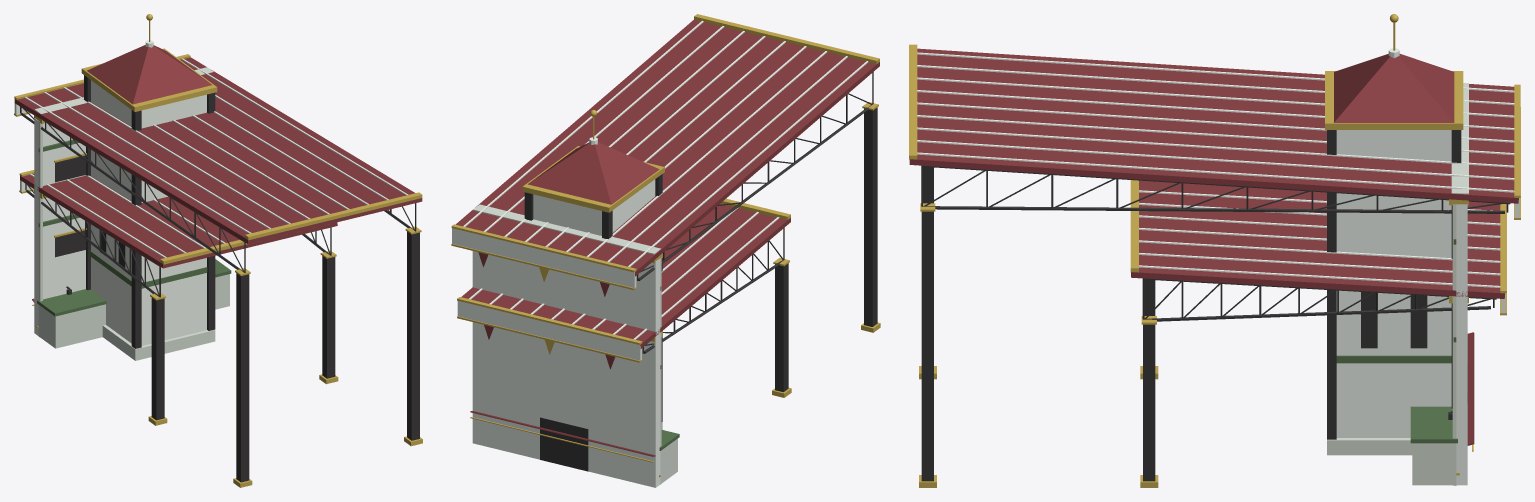
Rendered from downs-stand.glb.
The picture shows the model from 3 angles, left to right: view 1: azimuth 30°, elevation 25°; view 2: azimuth 150°, elevation 25°; view 3: azimuth 270°, elevation 25°; orthographic projection. The views are drawn at different scales.
Parts seen in each view (by area): view 1: dn_roof_bay_barn, dn_tower_mint, dn_roof_bay_black, dn_roof_bay_s_barn, dn_roof_bay_s_black, dn_roof_bay_mint, dn_back_mint, dn_tower_barn, dn_tower_black, dn_suite_mint2, dn_roof_bay_gold, dn_tower_mint2 (+9 smaller); view 2: dn_roof_bay_barn, dn_back_mint, dn_back_s_mint, dn_roof_bay_s_barn, dn_roof_bay_mint, dn_roof_bay_black, dn_tower_barn, dn_roof_bay_s_mint, dn_roof_bay_gold, dn_roof_bay_s_black, dn_tower_mint, dn_roof_bay_s_gold (+6 smaller); view 3: dn_roof_bay_barn, dn_roof_bay_s_barn, dn_tower_mint, dn_roof_bay_mint, dn_roof_bay_black, dn_tower_barn, dn_roof_bay_s_black, dn_roof_bay_s_mint, dn_tower_black, dn_back_mint, dn_roof_bay_gold, dn_back_mint2 (+8 smaller).
Part boxes in pixels (x1,y1,x2,y2): dn_roof_bay_barn: (14,57,422,243); dn_tower_mint: (91,40,206,345); dn_roof_bay_black: (19,106,419,482); dn_roof_bay_s_barn: (20,174,337,268); dn_roof_bay_s_black: (25,183,335,420); dn_roof_bay_mint: (14,58,408,233); dn_back_mint: (34,118,85,335); dn_tower_barn: (87,45,211,104); dn_tower_black: (84,75,215,348); dn_suite_mint2: (38,274,229,348); dn_roof_bay_gold: (14,54,422,487); dn_tower_mint2: (102,325,215,360); dn_roof_bay_barn: (456,20,879,296); dn_back_mint: (472,251,660,487); dn_back_s_mint: (472,322,660,487); dn_roof_bay_s_barn: (461,203,790,369); dn_roof_bay_mint: (452,20,868,288); dn_roof_bay_black: (637,72,877,326); dn_tower_barn: (528,142,659,204); dn_roof_bay_s_mint: (457,207,779,360); dn_roof_bay_gold: (451,14,880,332); dn_roof_bay_s_black: (642,228,788,392); dn_tower_mint: (533,137,655,235); dn_roof_bay_s_gold: (457,198,791,397); dn_roof_bay_barn: (909,48,1518,203); dn_roof_bay_s_barn: (1131,180,1504,298); dn_tower_mint: (1336,48,1451,437); dn_roof_bay_mint: (917,52,1519,217); dn_roof_bay_black: (921,165,1510,481); dn_tower_barn: (1334,54,1454,122); dn_roof_bay_s_black: (1142,278,1496,481); dn_roof_bay_s_mint: (1139,190,1505,313); dn_tower_black: (1327,130,1461,439); dn_back_mint: (1456,204,1467,485); dn_roof_bay_gold: (909,44,1520,487); dn_back_mint2: (1451,83,1468,485).
Size of the model in its own units: 19.9 by 33.16 by 44.2.
